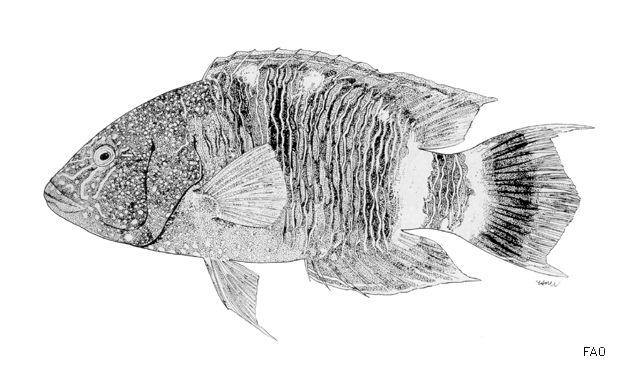fish: (45, 46, 596, 341)
